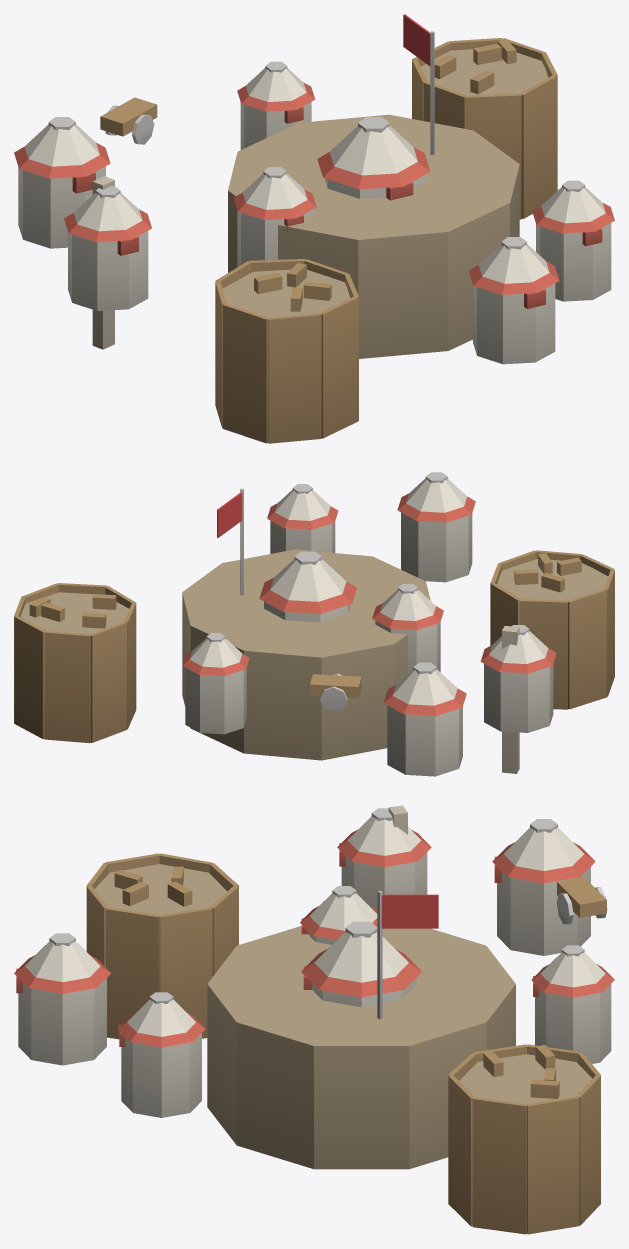
Rendered from village_steppe_b.glb.
3 renders of one model, top to bottom at view 1: azimuth 30°, elevation 25°; view 2: azimuth 150°, elevation 25°; view 3: azimuth 270°, elevation 25°, orthographic. The views are drawn at different scales.
Visible parts, largest first — view 1: village_steppe_b; view 2: village_steppe_b; view 3: village_steppe_b.
Part boxes in pixels (box(x1,y1,x2,y2)): village_steppe_b: box(14, 14, 614, 443); village_steppe_b: box(14, 472, 614, 776); village_steppe_b: box(14, 805, 614, 1234).
Size of the model in its own units: 1.78 by 0.75 by 1.64.
